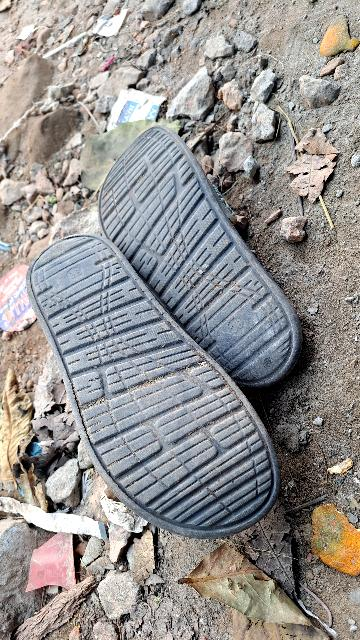sandal: (0, 214, 294, 578), (66, 113, 316, 414)
